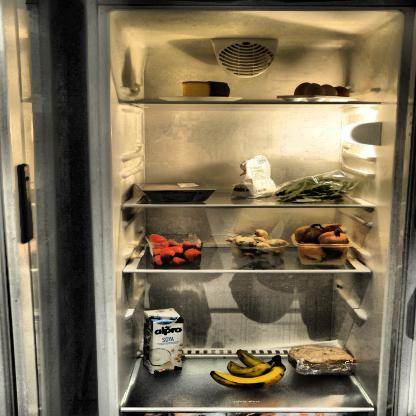banana: (210, 348, 290, 392)
cheese: (178, 82, 234, 98)
eggs: (292, 78, 358, 101)
green_beans: (274, 176, 356, 202)
milk: (140, 308, 190, 376)
mushrooms: (225, 230, 289, 258)
onion: (294, 221, 348, 266)
strawberries: (145, 233, 206, 267)
